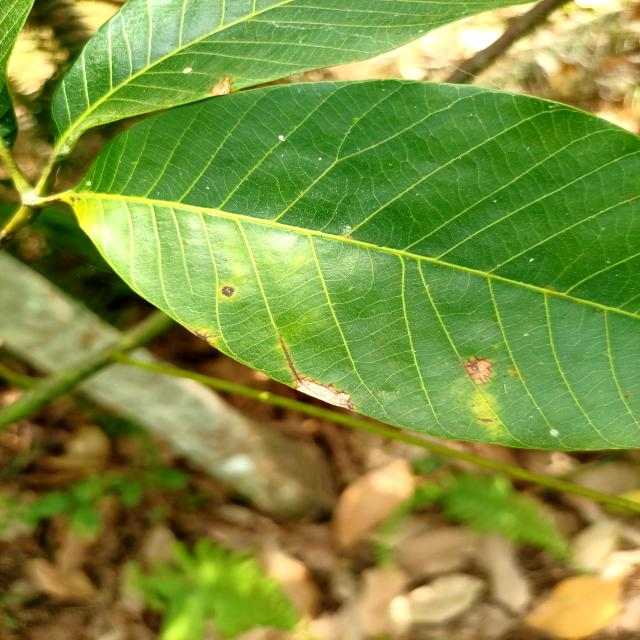Corynespora: (278, 337, 306, 382), (464, 354, 497, 385), (187, 327, 216, 347)
Leaf-Blight: (298, 380, 350, 408)
